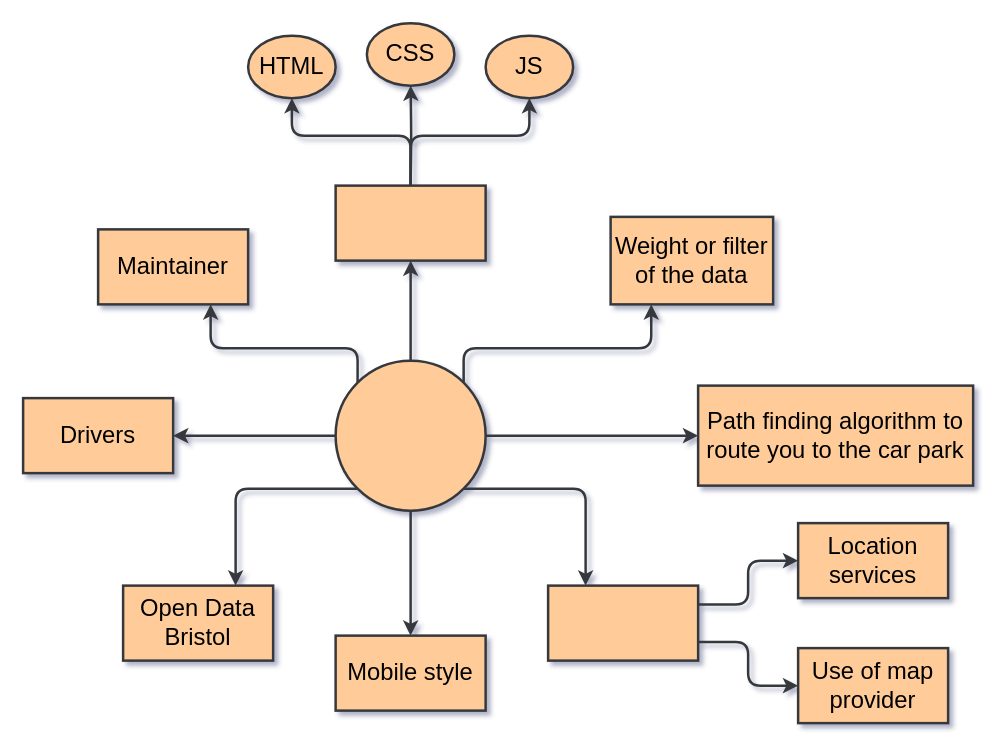
This 1003x753 diagram has some shape labels left out. The centre of each missing label's shape, as x and y in pixels:
"Language" belongs at [410,222].
"Legal Factors" belongs at [622,622].
"ParkHub" belongs at [410,435].
